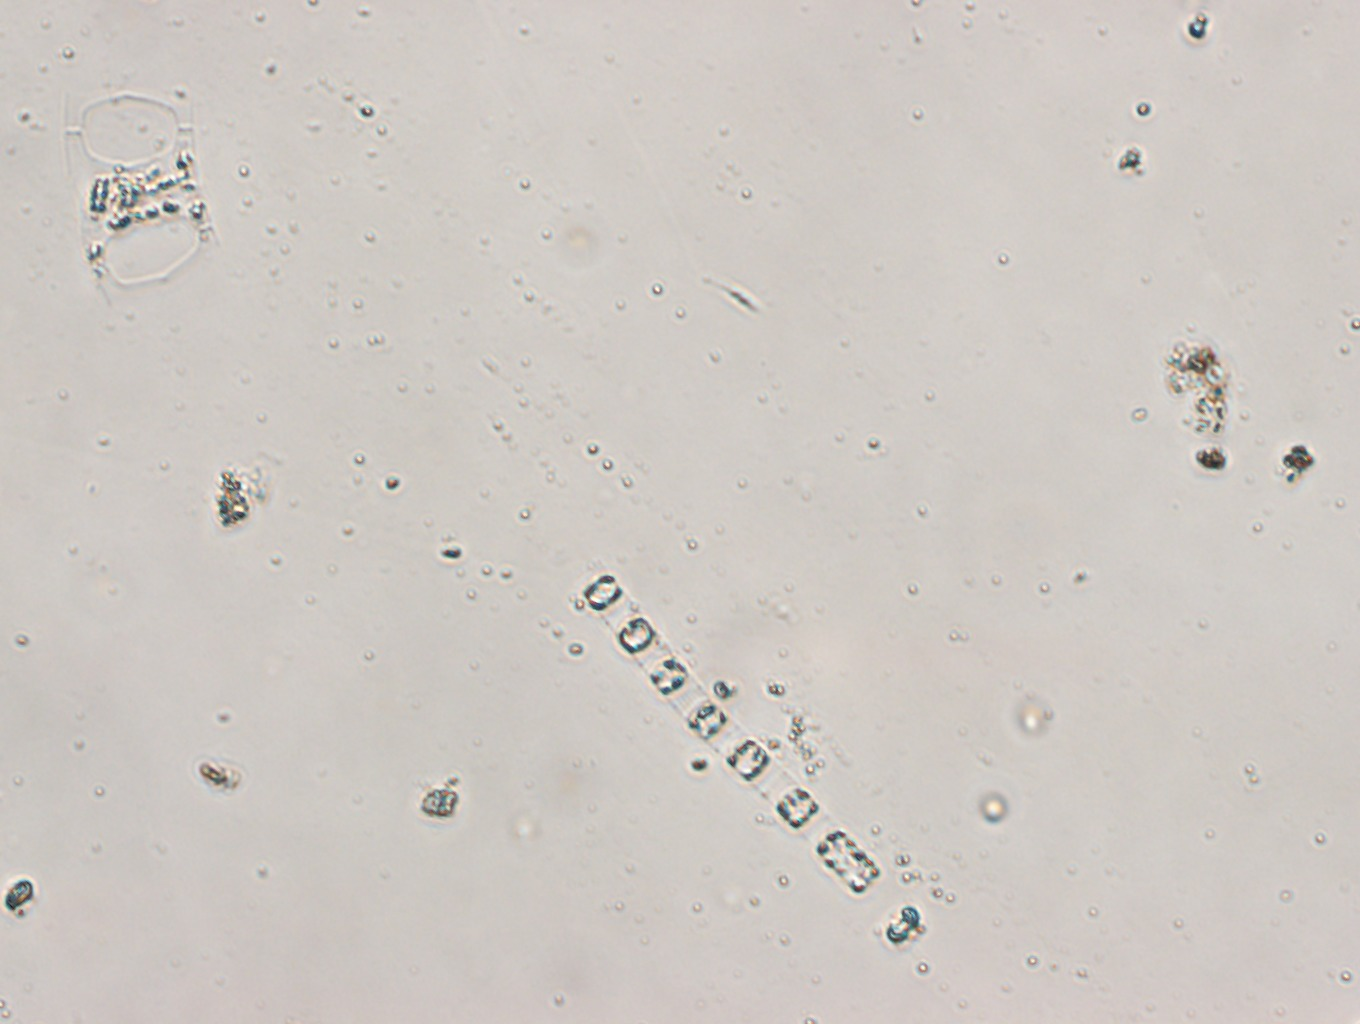eucampia: (61, 81, 221, 317)
skeletonema: (569, 552, 930, 959)
